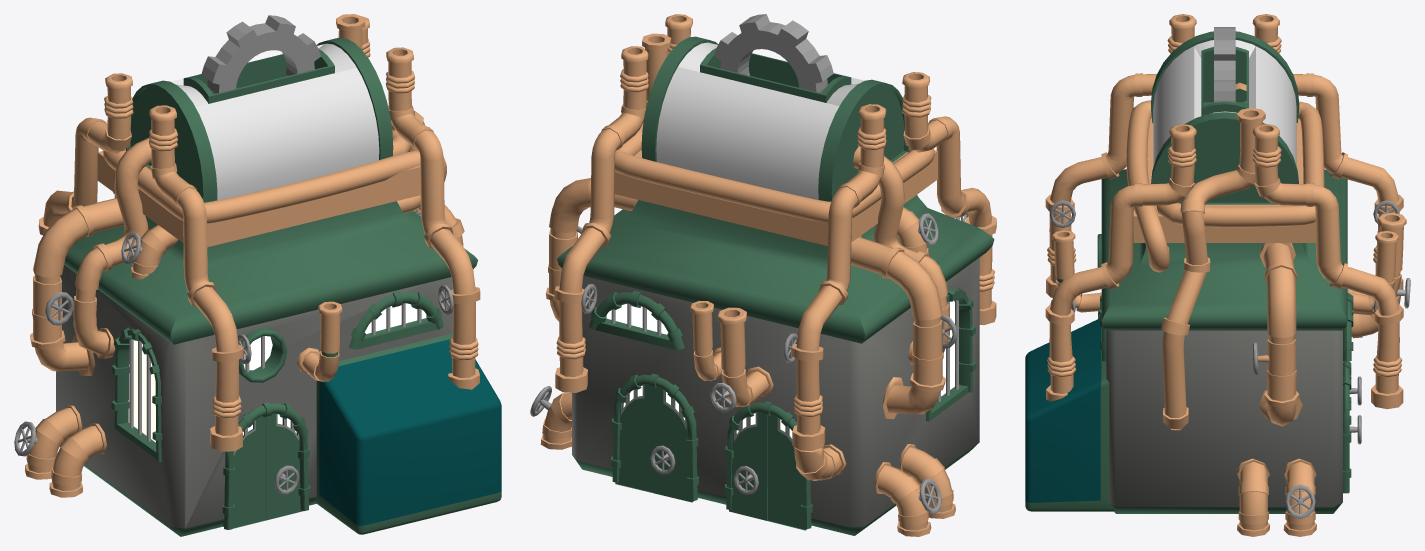
The picture shows the model from 3 angles, left to right: view 1: azimuth 30°, elevation 25°; view 2: azimuth 150°, elevation 25°; view 3: azimuth 270°, elevation 25°; orthographic projection. The views are drawn at different scales.
Parts seen in each view (by area): view 1: Base.002; view 2: Base.002; view 3: Base.002.
Part boxes in pixels (x1,y1,x2,y2): Base.002: [14, 14, 501, 536]; Base.002: [530, 14, 996, 536]; Base.002: [1025, 14, 1410, 536].
Size of the model in its own units: 460 by 478 by 400.
